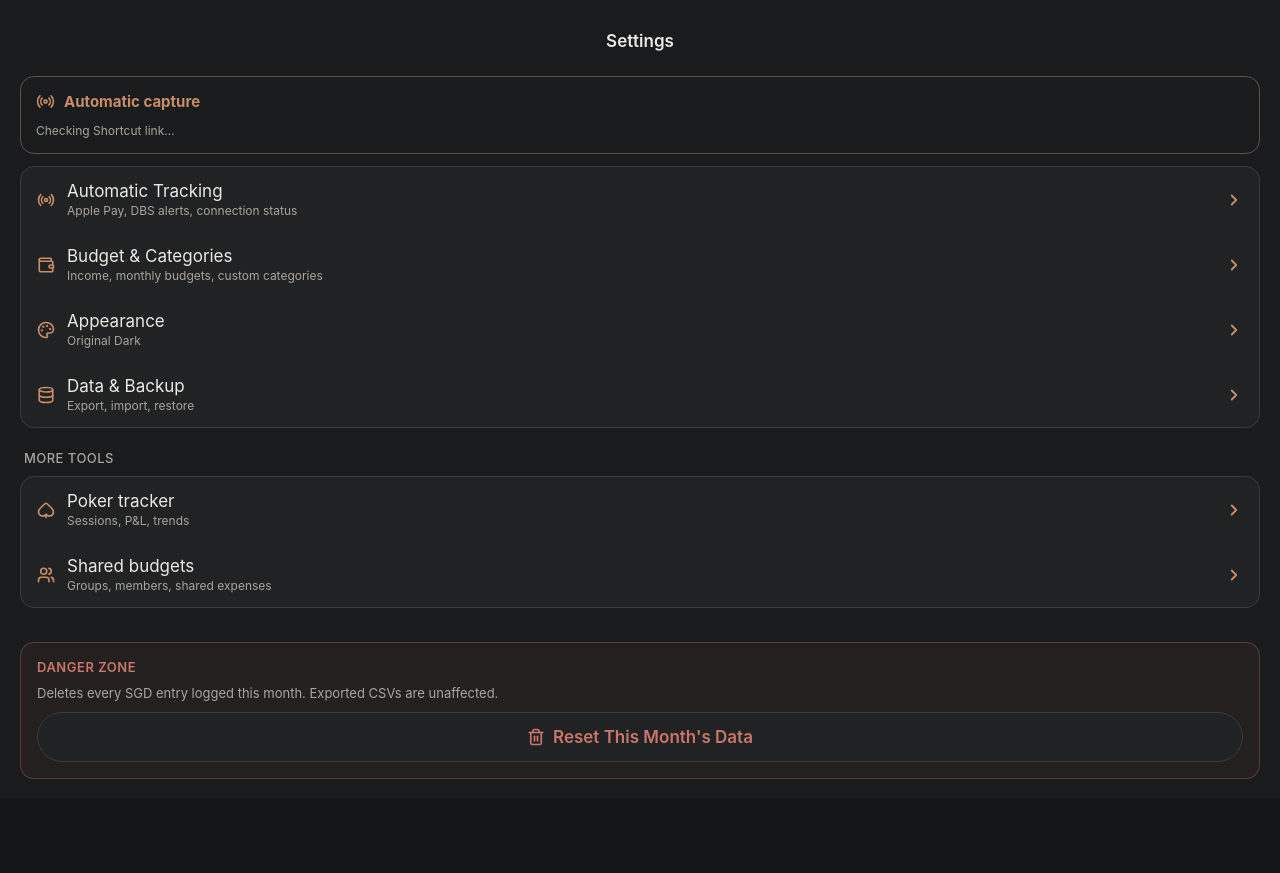
Settings hub › navigates to Budget & Categories and back to the hub
Click the button that starts with "Budget & Categories" at (150, 256), box [21,232,1259,297]
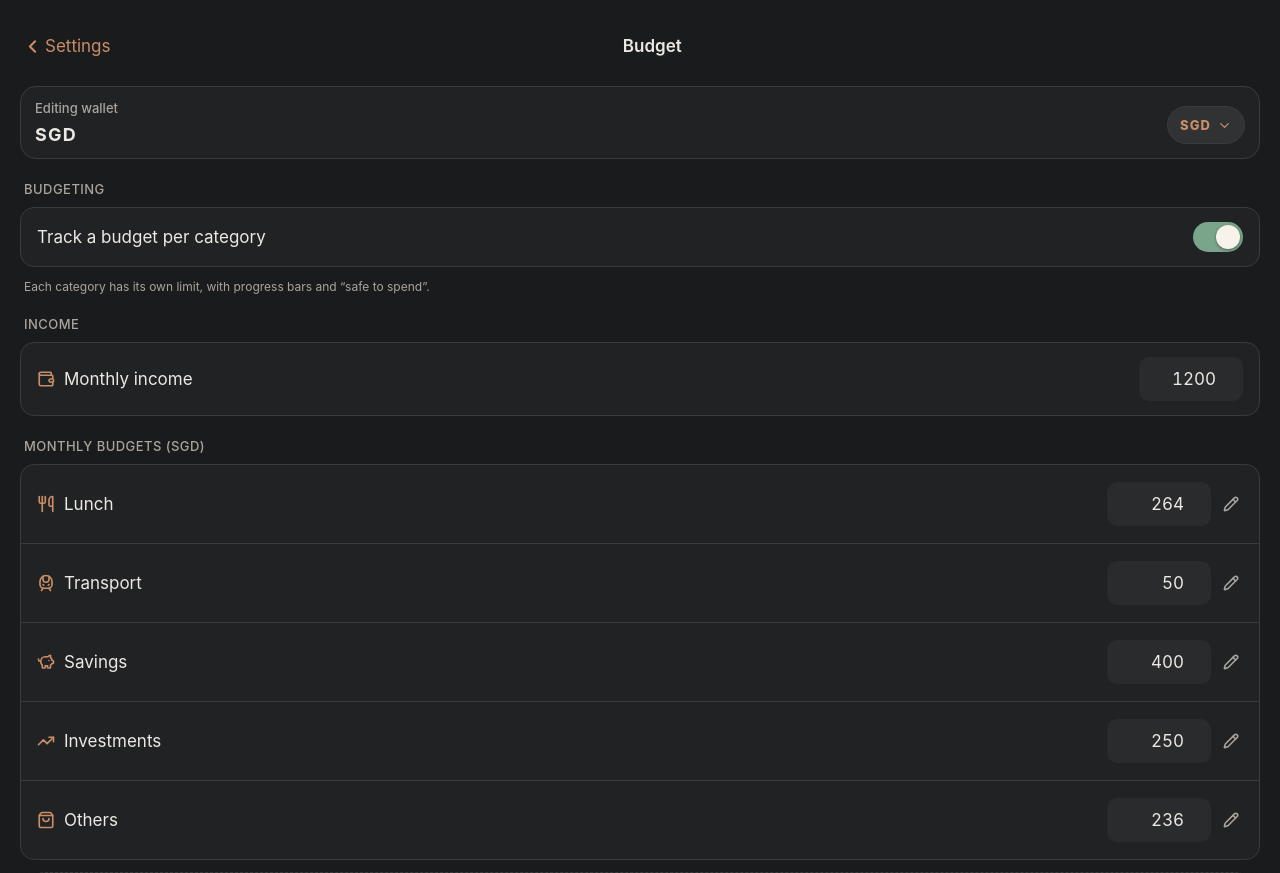
Result: the number field with id "budget-monthly-income" is shown at [1139,357,1243,401]
Click the button with class "back-btn" at (66, 46), box [22,24,110,68]
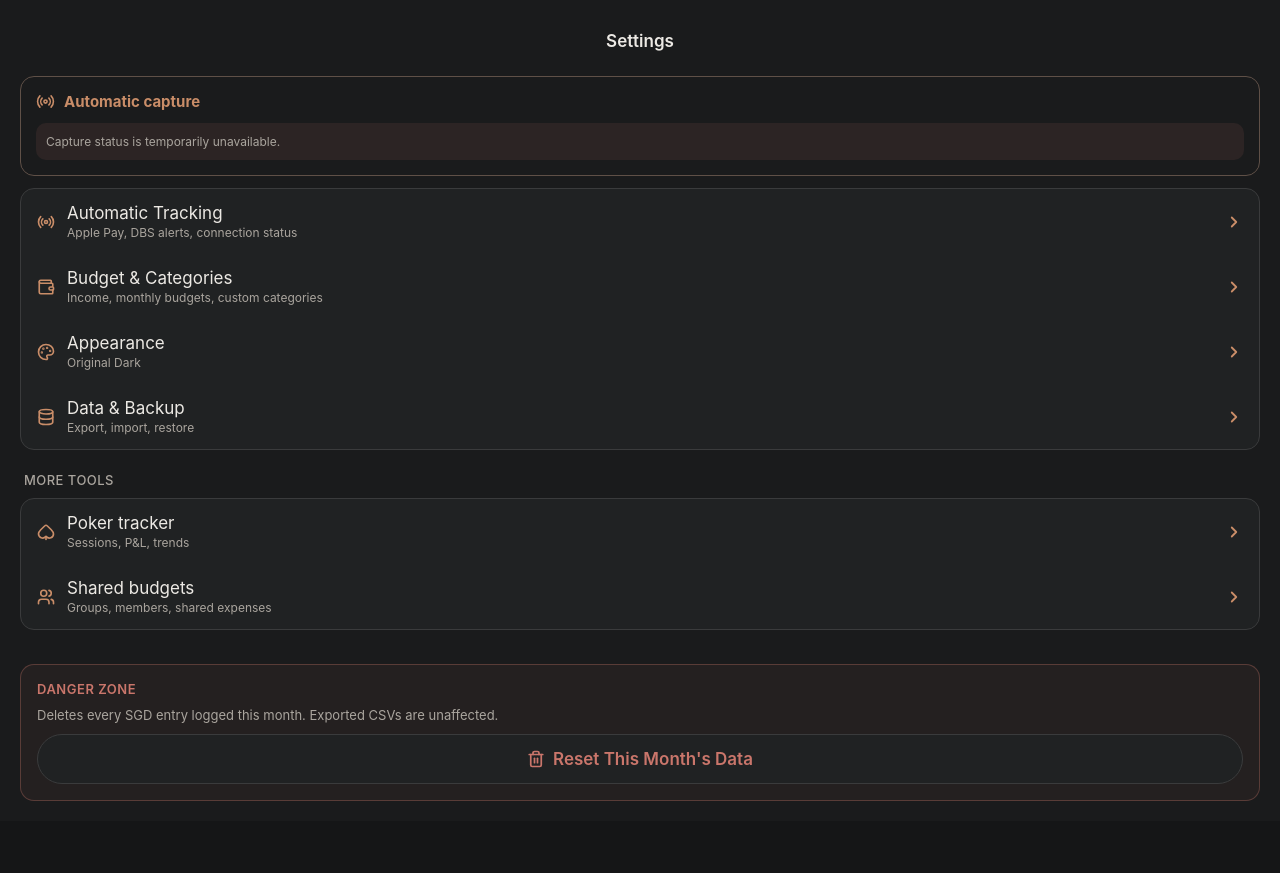
Result: the number of buttons with class "settings-nav-row" is 6 at [21,189,1259,254]; [21,254,1259,319]; [21,319,1259,384]; [21,384,1259,449]; [21,499,1259,564]; [21,564,1259,629]
Result: the label with id "budget-monthly-income" is gone
